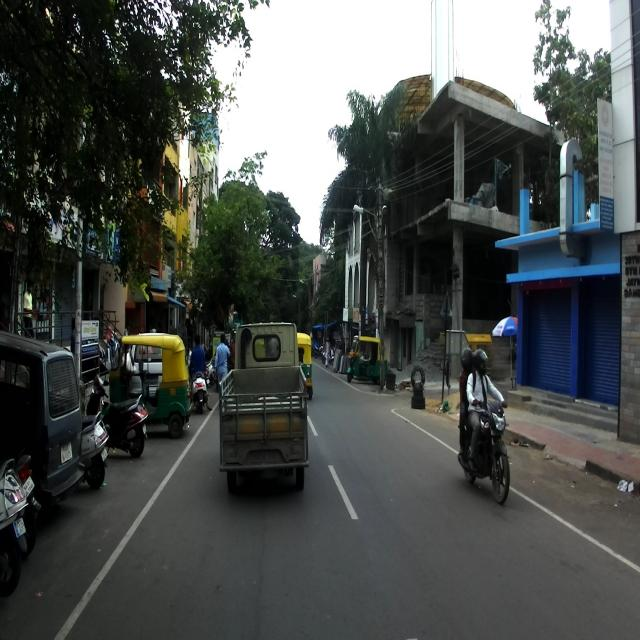Car_Maruti-Suzuki: (0, 327, 85, 523)
autorickshaw: (109, 332, 191, 438), (346, 335, 384, 386)
motorcycle: (457, 402, 509, 505)
scooter: (84, 370, 149, 460), (0, 456, 27, 599), (80, 409, 109, 492), (189, 369, 208, 417)
truck: (220, 315, 309, 498)
